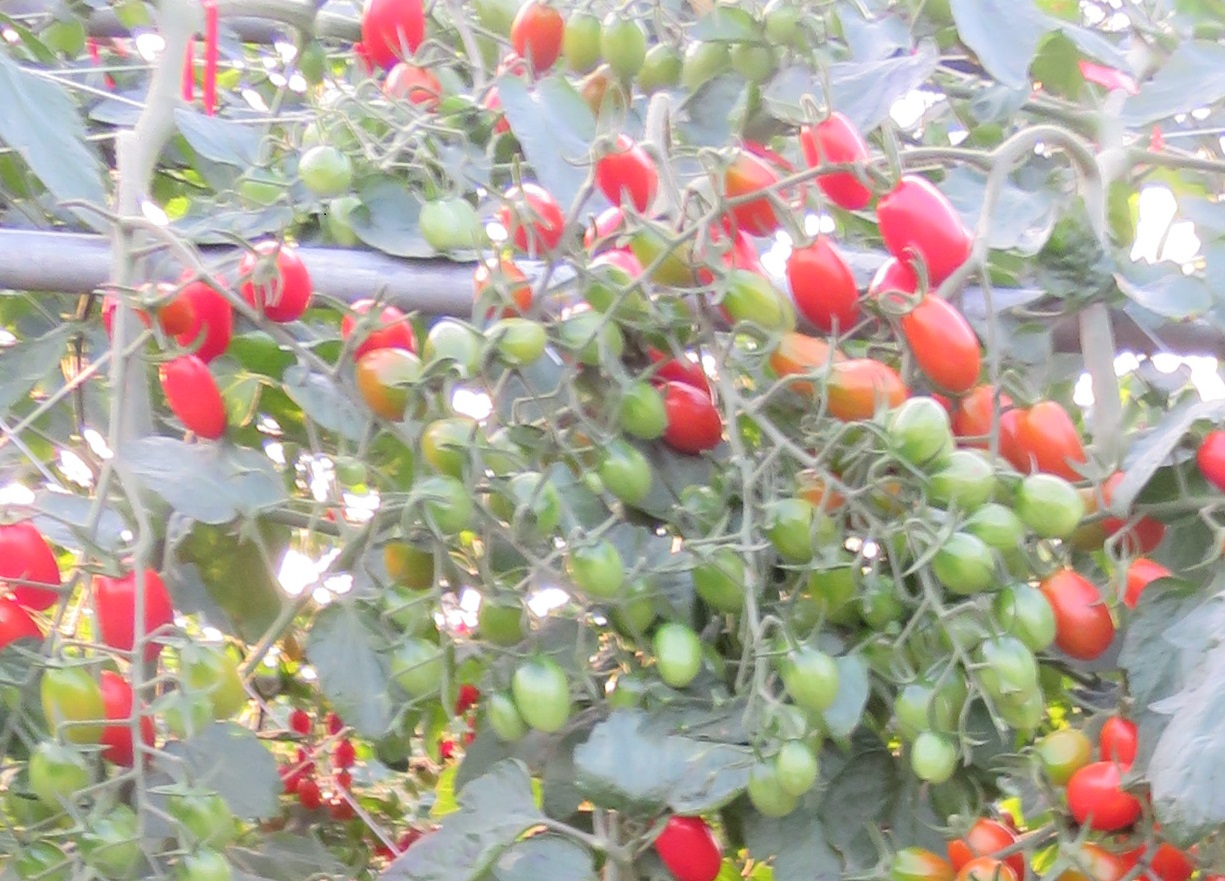green: (172, 649, 248, 719), (762, 498, 840, 561), (509, 656, 572, 733), (1018, 475, 1086, 546), (767, 643, 840, 709), (712, 270, 789, 332), (359, 350, 422, 424), (556, 311, 627, 369), (173, 787, 236, 848), (403, 474, 463, 538), (86, 821, 150, 881), (934, 532, 999, 591), (634, 223, 692, 286), (686, 547, 741, 612), (388, 638, 448, 697), (596, 443, 657, 501), (508, 472, 566, 533), (891, 396, 940, 468), (40, 668, 103, 723), (476, 588, 533, 648), (568, 542, 626, 600), (418, 424, 491, 470), (972, 641, 1036, 693), (581, 266, 640, 322), (26, 738, 82, 796), (650, 624, 705, 683), (999, 584, 1052, 645), (416, 197, 472, 254), (1031, 723, 1086, 779), (301, 142, 357, 196), (560, 9, 603, 78), (859, 572, 911, 629), (887, 689, 955, 732), (424, 318, 479, 370), (484, 318, 547, 363), (600, 15, 641, 82), (962, 510, 1026, 552), (10, 842, 76, 881), (910, 736, 963, 783), (922, 472, 995, 506), (380, 587, 432, 634), (618, 383, 662, 436), (476, 700, 518, 752), (641, 37, 677, 96), (777, 742, 817, 792), (328, 197, 366, 247), (734, 42, 777, 84), (684, 36, 725, 78), (750, 756, 777, 816), (763, 1, 799, 43), (337, 453, 367, 489)
orange: (895, 292, 987, 396), (1045, 572, 1112, 661), (1021, 396, 1091, 479), (816, 363, 912, 421)
red: (876, 178, 969, 278), (154, 350, 232, 442), (791, 242, 855, 330), (240, 245, 308, 316), (358, 1, 427, 70), (951, 818, 1025, 877), (1071, 765, 1139, 828), (653, 818, 722, 880), (1135, 820, 1203, 879), (334, 301, 421, 342), (598, 142, 654, 205), (666, 383, 714, 451), (96, 579, 132, 657), (3, 529, 55, 579), (193, 273, 225, 346), (293, 777, 320, 810), (285, 707, 310, 734), (336, 741, 356, 768), (327, 711, 346, 738), (331, 799, 353, 822), (337, 772, 355, 789)
